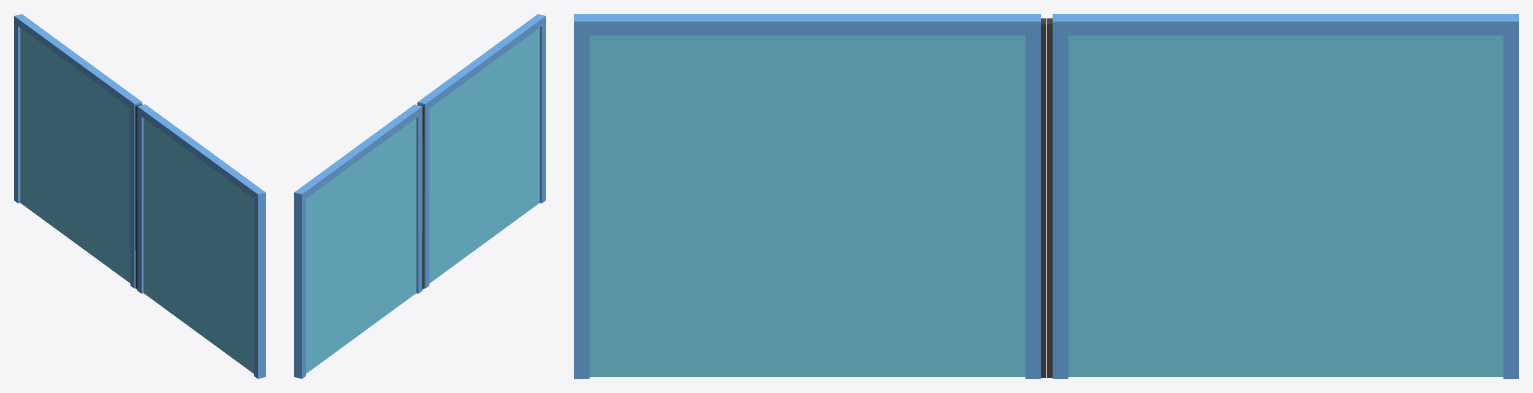
File: WallDoors.fbx
3 renders of one model, left to right at view 1: azimuth 30°, elevation 25°; view 2: azimuth 150°, elevation 25°; view 3: azimuth 270°, elevation 25°, orthographic. The views are drawn at different scales.
Visible parts, largest first — view 1: WallDoorL, WallDoorR; view 2: WallDoorR, WallDoorL; view 3: WallDoorL, WallDoorR.
Part boxes in pixels (x1=…): WallDoorL: x1=137, y1=104, x2=265, y2=378; WallDoorR: x1=14, y1=14, x2=142, y2=288; WallDoorR: x1=294, y1=104, x2=422, y2=378; WallDoorL: x1=417, y1=14, x2=545, y2=288; WallDoorL: x1=574, y1=14, x2=1046, y2=378; WallDoorR: x1=1047, y1=14, x2=1518, y2=378.
Size of the model in its own units: 7.76 by 172 by 411.
